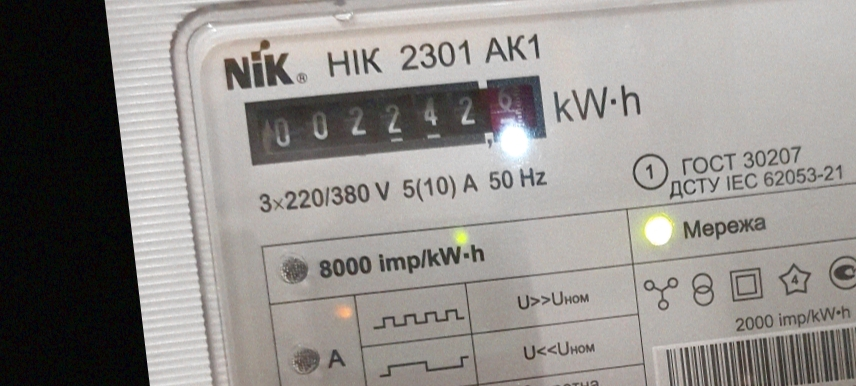0: (269, 115, 292, 150), (306, 108, 329, 143)
2: (380, 101, 402, 137), (344, 104, 367, 138), (454, 94, 475, 128)
4: (419, 95, 438, 129)
6: (493, 84, 512, 113)
screen: (230, 58, 556, 183)
